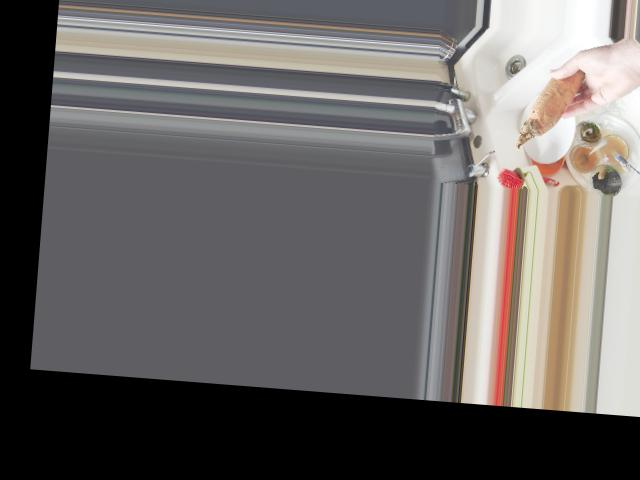sweet_potato: (515, 58, 590, 155)
